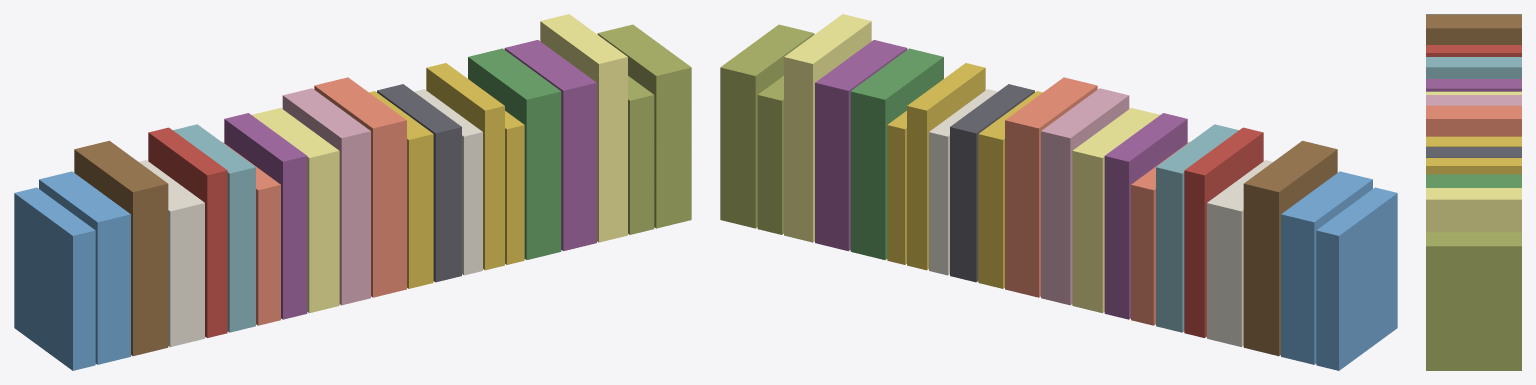
File: book_row_b.glb
3 renders of one model, left to right at view 1: azimuth 30°, elevation 25°; view 2: azimuth 150°, elevation 25°; view 3: azimuth 270°, elevation 25°, orthographic. The views are drawn at different scales.
Parts seen in each view (by area): view 1: book_row_b; view 2: book_row_b; view 3: book_row_b.
Part boxes in pixels (x1,y1,x2,y2): book_row_b: [14, 14, 691, 370]; book_row_b: [720, 14, 1397, 370]; book_row_b: [1426, 14, 1521, 370].
Size of the model in its own units: 1.22 by 0.3355 by 0.2.
